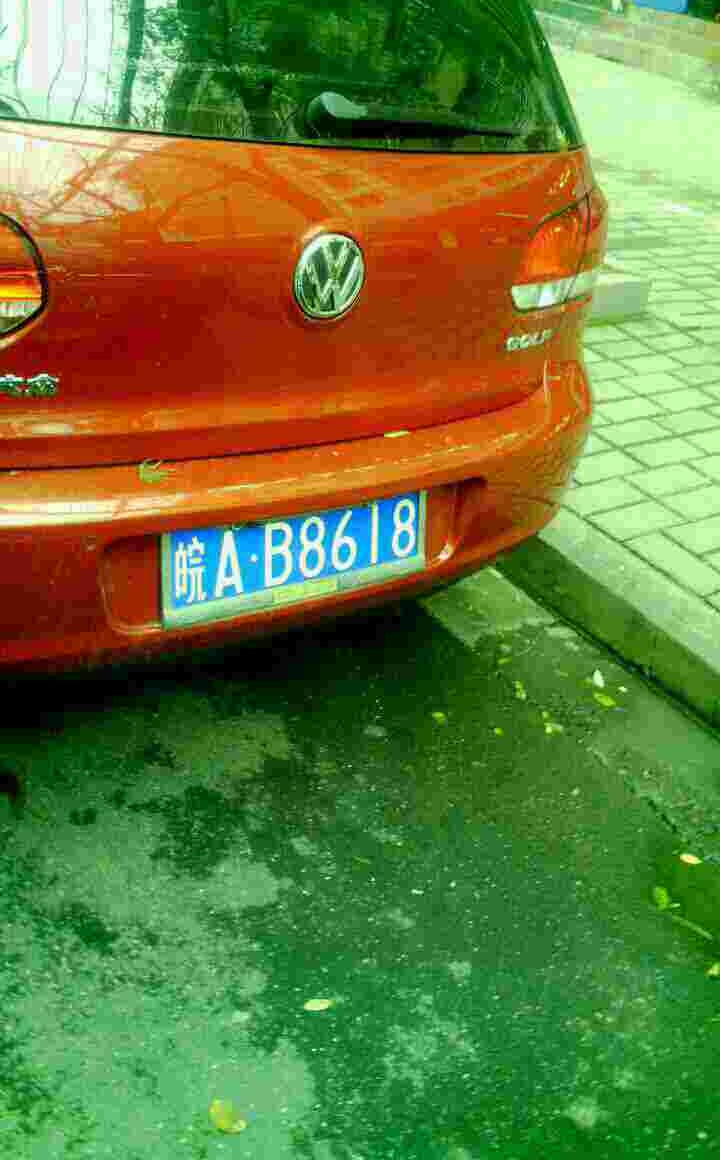license_plate: (163, 500, 421, 609)
